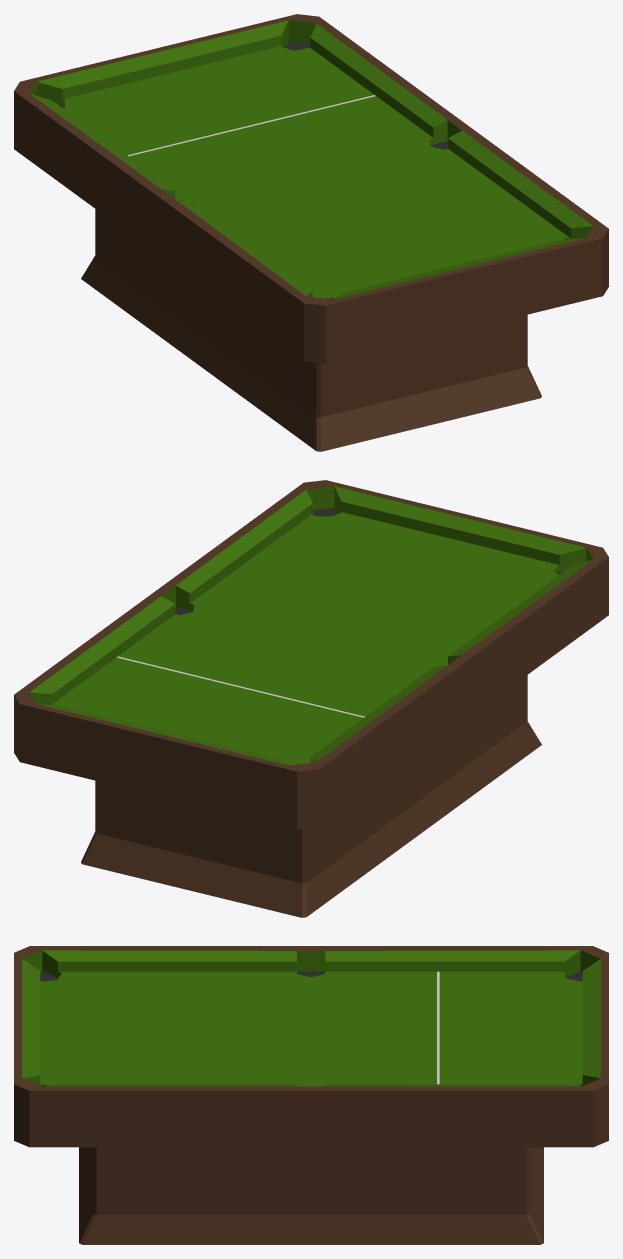
File: PoolTable.glb
3 renders of one model, top to bottom at view 1: azimuth 30°, elevation 25°; view 2: azimuth 150°, elevation 25°; view 3: azimuth 270°, elevation 25°, orthographic. The views are drawn at different scales.
Visible parts, largest first — view 1: PoolTable2; view 2: PoolTable2; view 3: PoolTable2.
Boxes of the visible parts, bbox=[...] form: PoolTable2: bbox=[14, 14, 608, 451]; PoolTable2: bbox=[14, 480, 608, 917]; PoolTable2: bbox=[14, 946, 608, 1244].
Bounding box in the file's own units: 3 × 1.67 × 5.21.
Materials: 2 (2 with a texture image).
